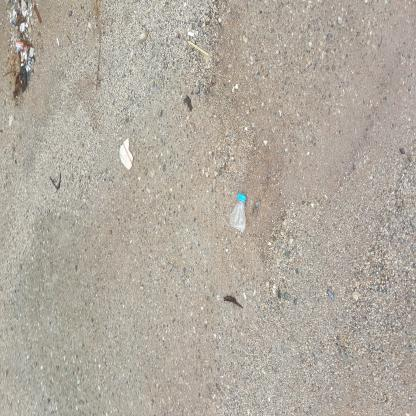trash: (99, 402, 127, 416)
